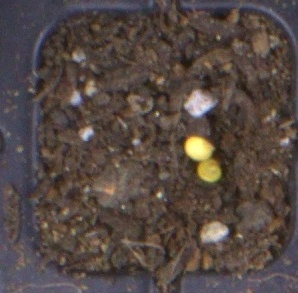chilli seed: (183, 135, 216, 161), (197, 159, 223, 182)
